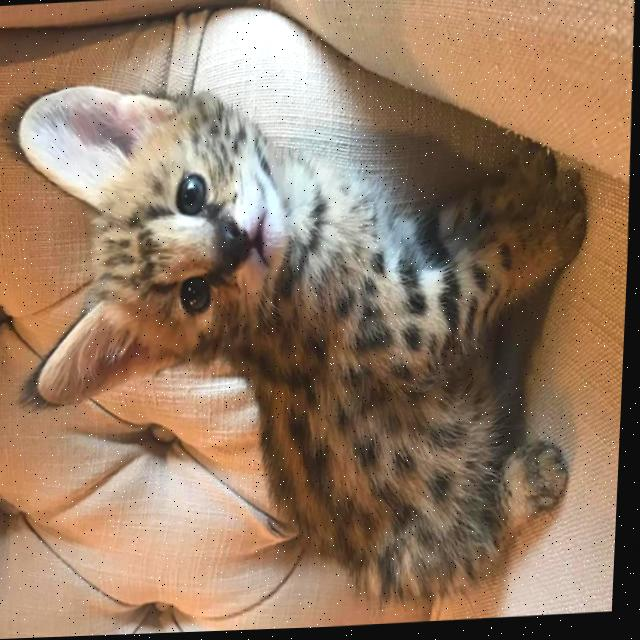Savannah: (0, 56, 607, 632)
